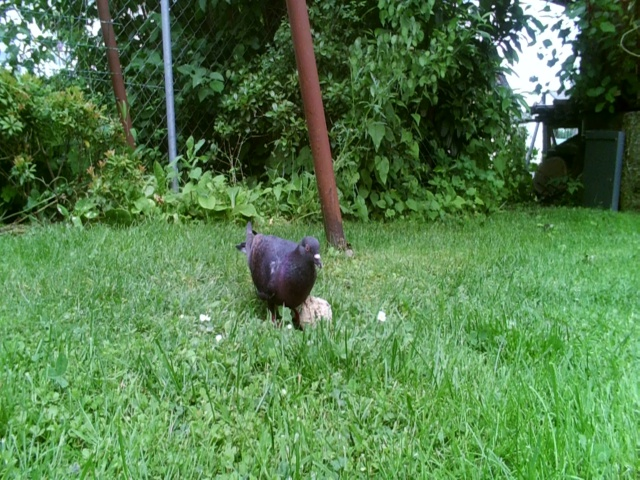Pigeon: (230, 219, 329, 336)
